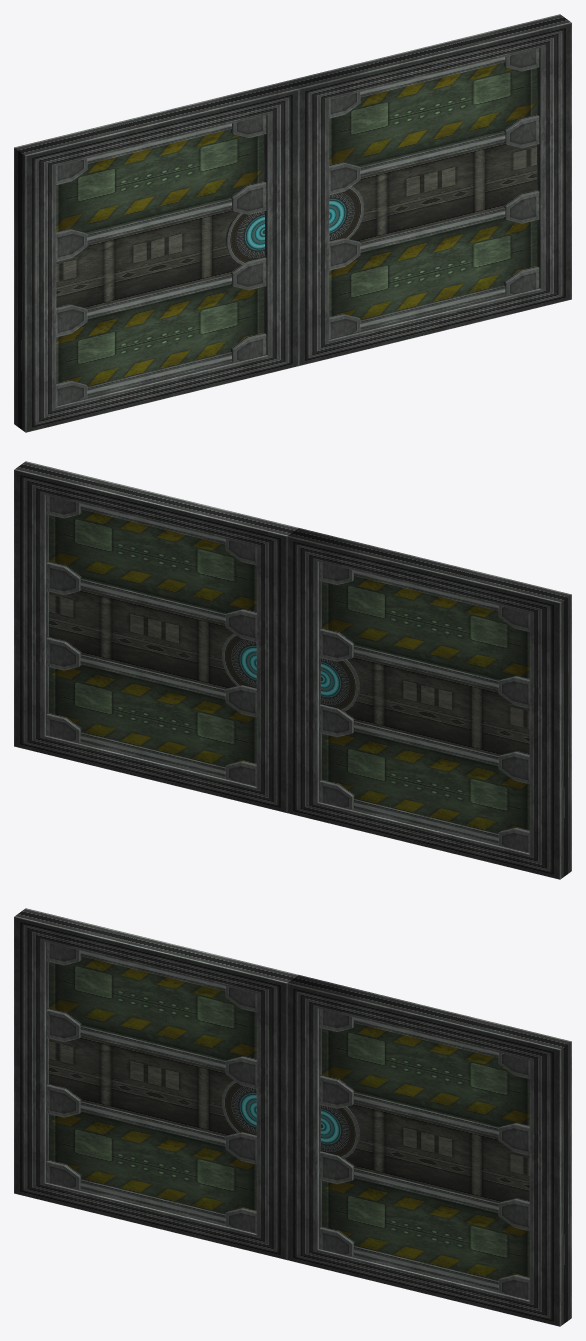
Rendered from w12dor00.obj.
The picture shows the model from 3 angles, top to bottom: view 1: azimuth 30°, elevation 25°; view 2: azimuth 150°, elevation 25°; view 3: azimuth 330°, elevation 25°; orthographic projection.
Visible parts, largest first — view 1: door_l_door_lShape.001, door_r_door_rShape.001; view 2: door_l_door_lShape.001, door_r_door_rShape.001; view 3: door_r_door_rShape.001, door_l_door_lShape.001.
Part boxes in pixels (left/top/right/bottom): door_l_door_lShape.001: left=14, top=81, right=298, bottom=432; door_r_door_rShape.001: left=287, top=14, right=571, bottom=365; door_l_door_lShape.001: left=287, top=528, right=571, bottom=879; door_r_door_rShape.001: left=14, top=461, right=298, bottom=812; door_r_door_rShape.001: left=287, top=975, right=571, bottom=1326; door_l_door_lShape.001: left=14, top=908, right=298, bottom=1259.
Bounding box in the file's own units: 5 × 2.42 × 0.1875.
2 materials, 2 textured.
